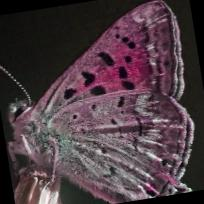butterfly: (8, 0, 194, 204)
